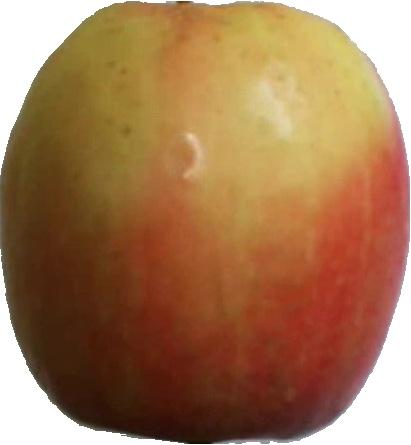Apple Ripe: (1, 2, 409, 442)
